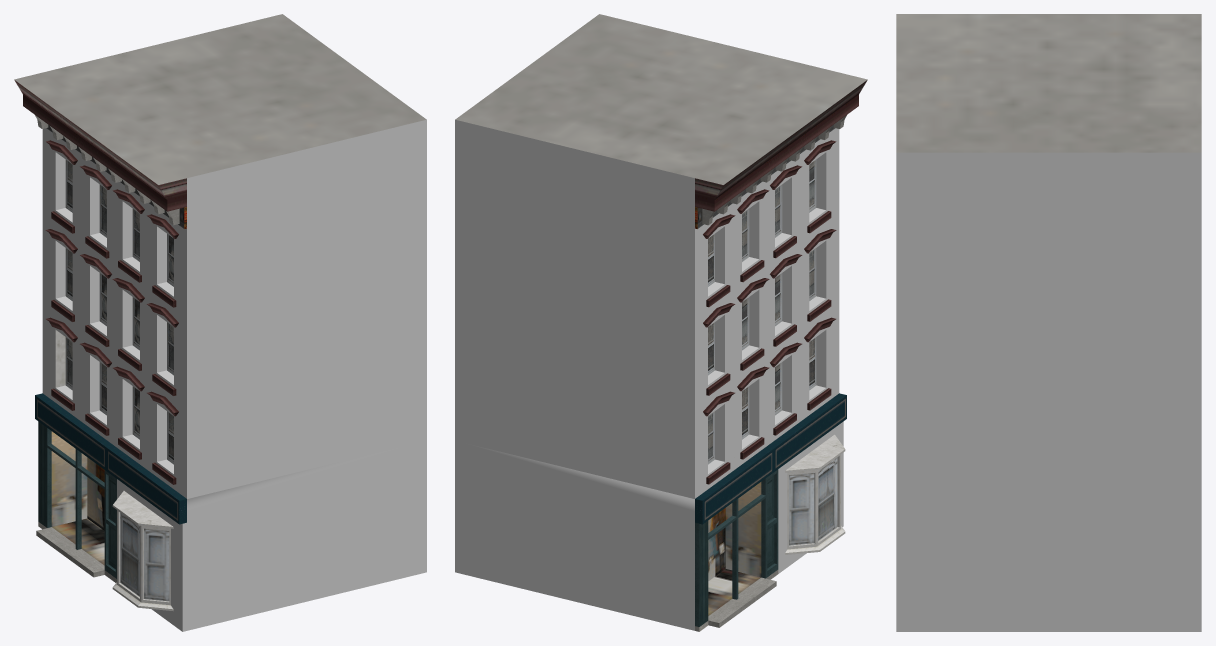
File: Building_I.fbx
The picture shows the model from 3 angles, left to right: view 1: azimuth 30°, elevation 25°; view 2: azimuth 150°, elevation 25°; view 3: azimuth 270°, elevation 25°; orthographic projection. The views are drawn at different scales.
Visible parts, largest first — view 1: City_Market_01:Building I; view 2: City_Market_01:Building I; view 3: City_Market_01:Building I.
Boxes of the visible parts, <box> form: City_Market_01:Building I: <box>14,14,426,631</box>; City_Market_01:Building I: <box>455,14,867,631</box>; City_Market_01:Building I: <box>896,14,1201,631</box>.
Size of the model in its own units: 6.87 by 11.07 by 6.4.
